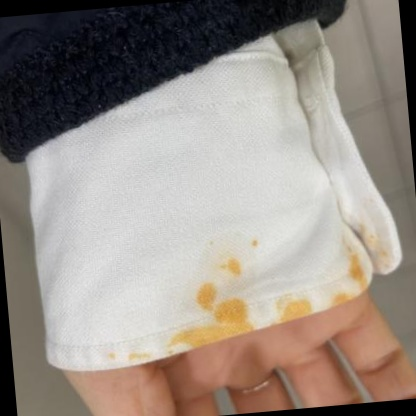kimchi: (201, 292, 258, 335), (335, 228, 367, 285), (266, 291, 310, 320), (167, 324, 228, 343), (362, 233, 387, 269), (191, 279, 219, 311), (214, 254, 244, 279), (125, 348, 150, 360), (331, 292, 349, 303), (252, 240, 264, 250), (163, 346, 174, 355), (109, 351, 117, 363), (206, 237, 214, 248)
